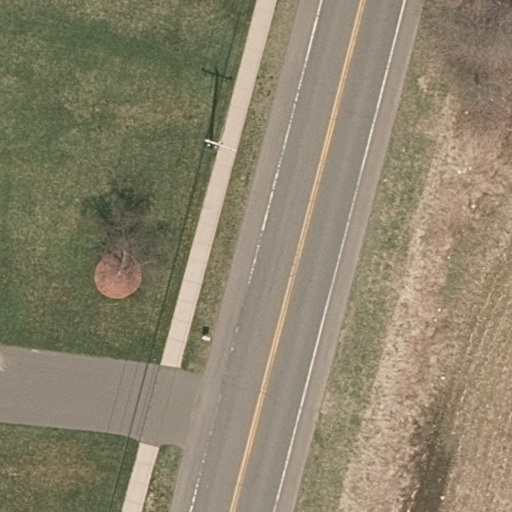DT: (204, 137, 238, 157)
